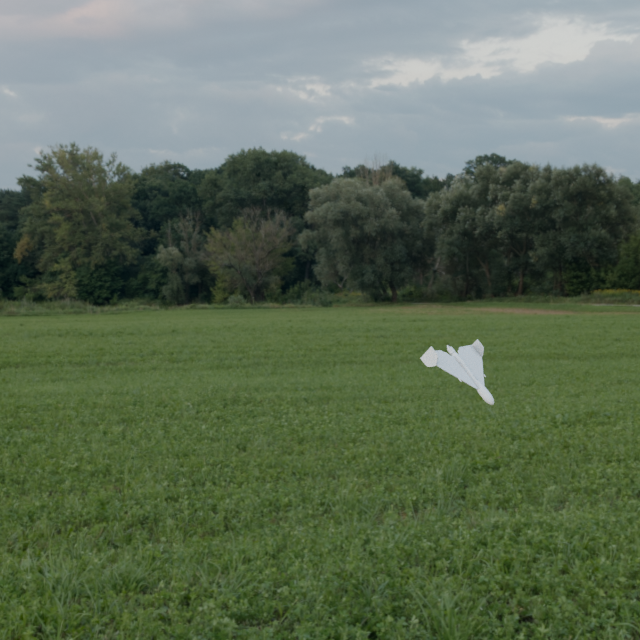shahed: (420, 339, 494, 405)
